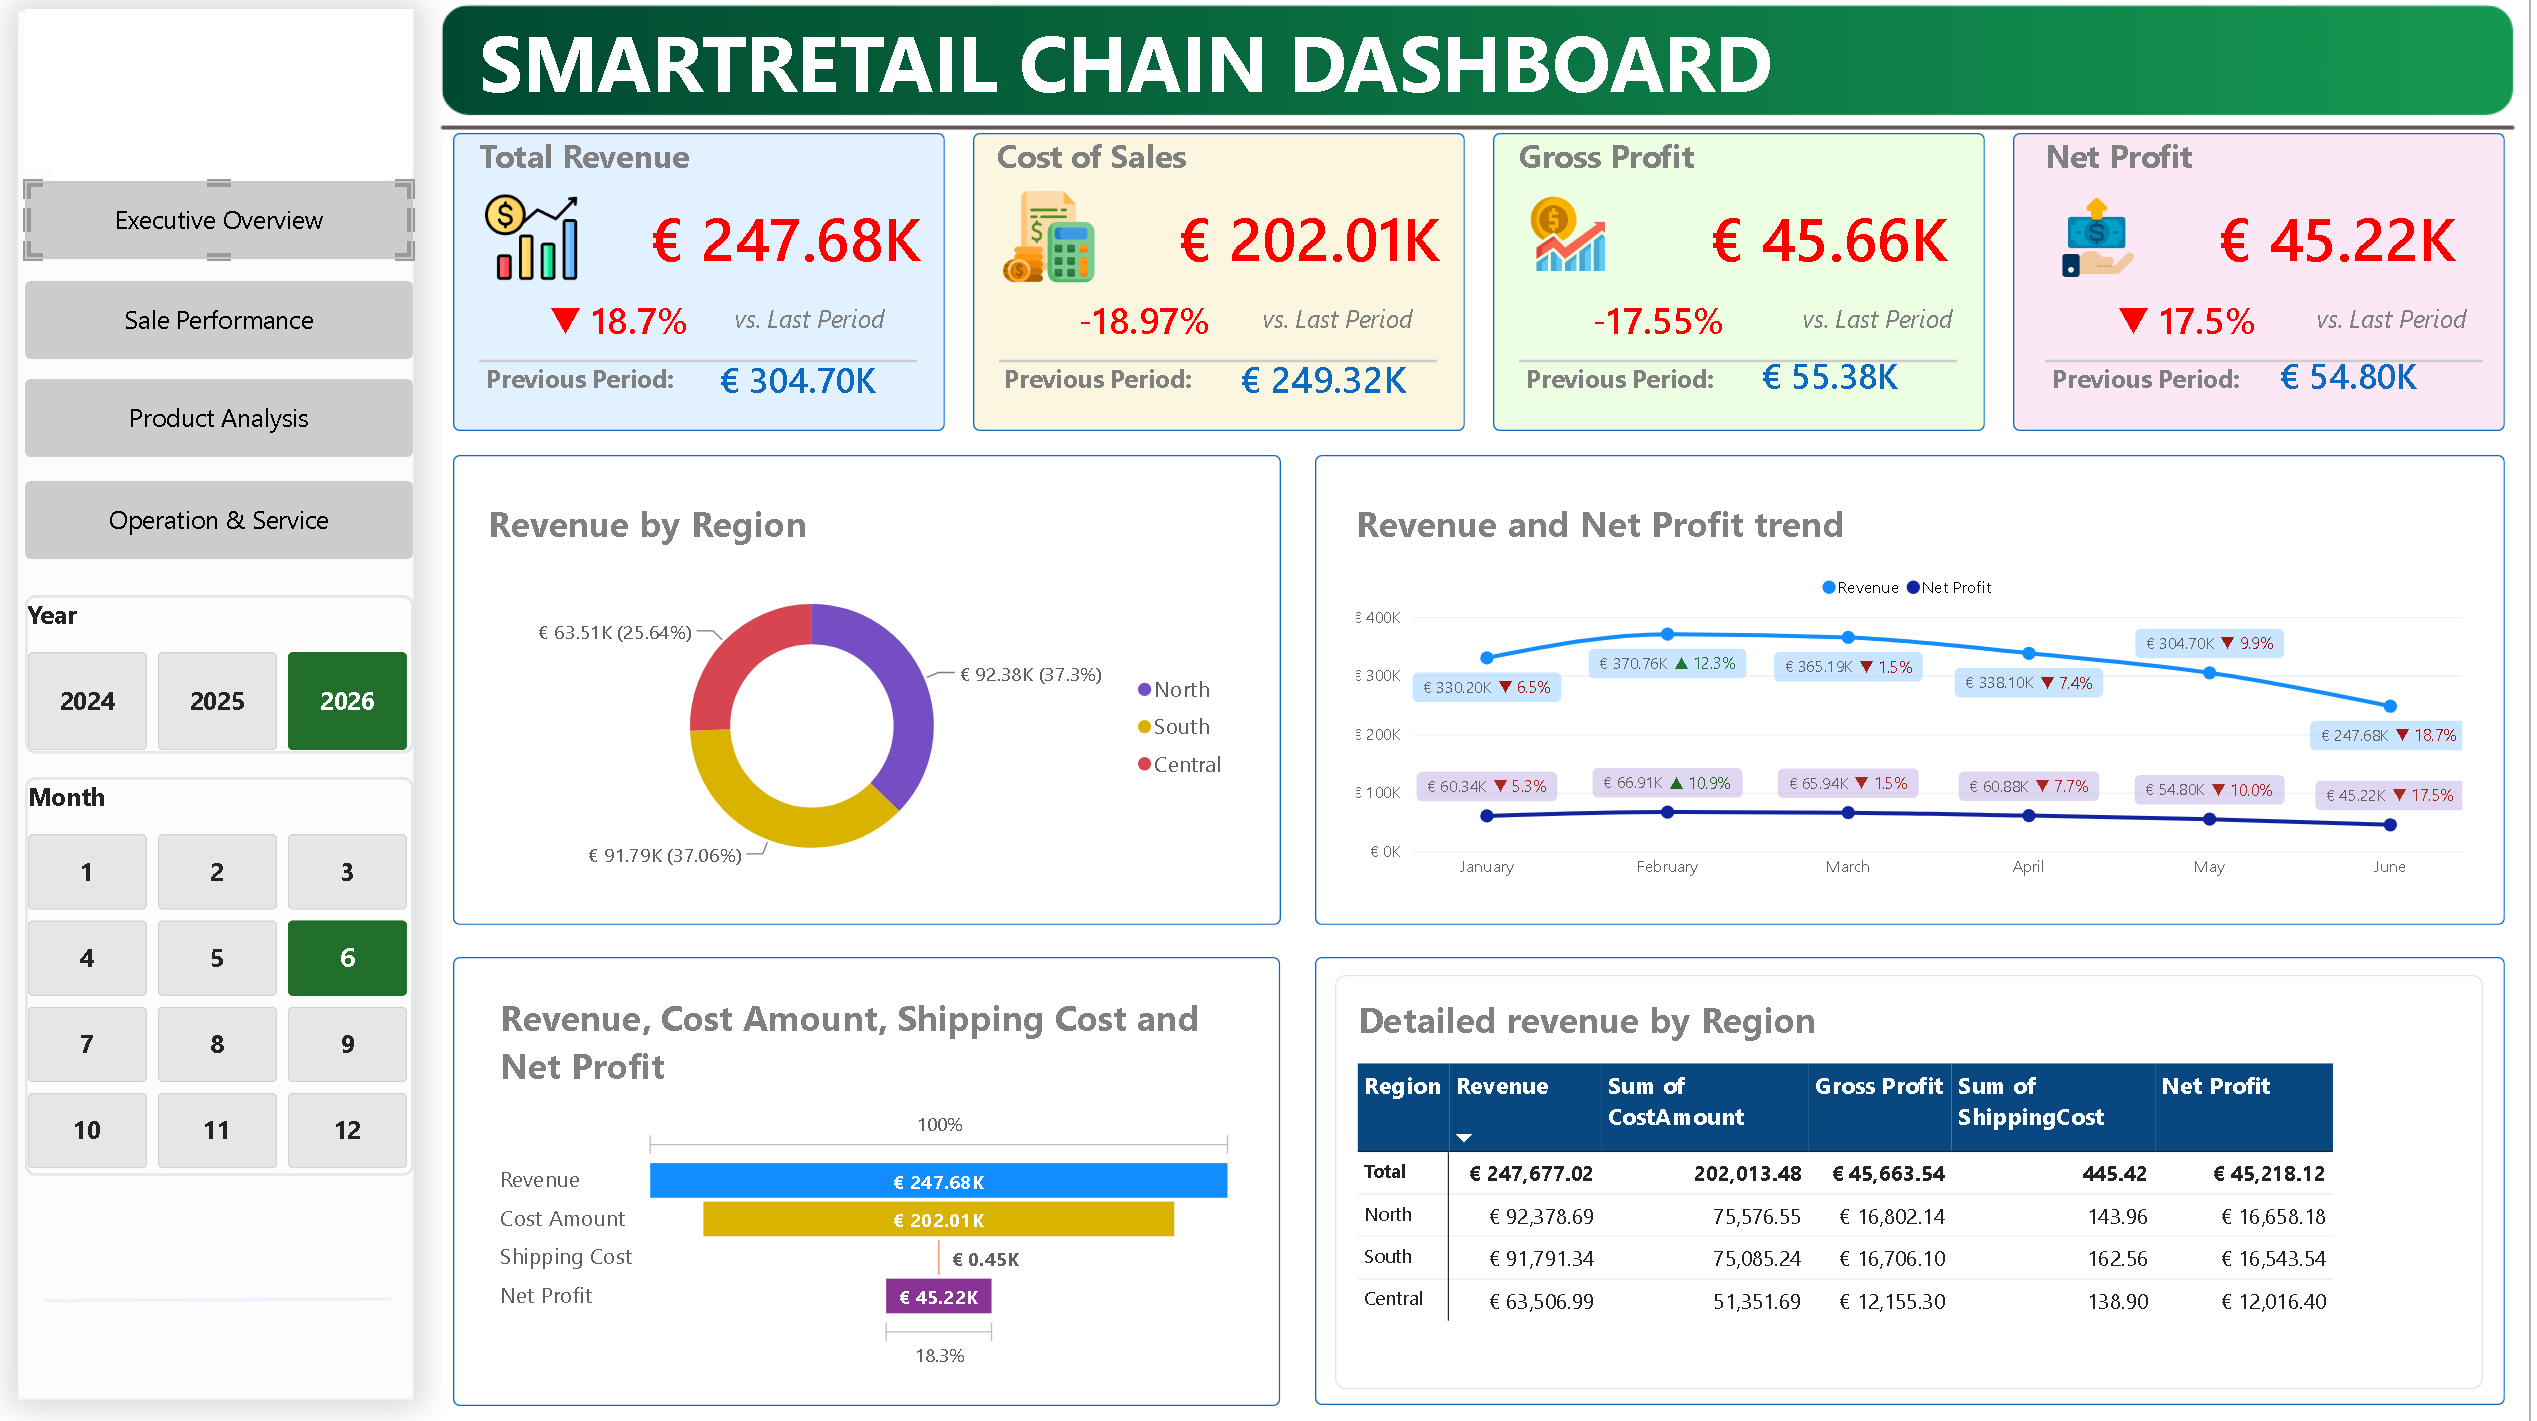

Layout of this report page (visuals, bound fields, positions):
{"tool":"powerbi","page":{"name":"Executive Overview","canvas":[1920,1080],"ordinal":0},"visuals":[{"type":"shape","box":[355.7,105.5,370.7,224.6],"z":0},{"type":"shape","box":[747.5,105.5,370.7,224.6],"z":1000},{"type":"shape","box":[1139.3,105.5,370.7,224.6],"z":2000},{"type":"shape","box":[1531.2,105.5,370.7,224.6],"z":3000},{"type":"textbox","box":[375.3,12.1,1080.6,78.4],"z":4000},{"type":"textbox","box":[375.3,105.5,226.1,43.7],"z":5000},{"type":"textbox","box":[765.6,105.5,194.4,43.7],"z":6000},{"type":"textbox","box":[1158.9,105.5,254.7,54.3],"z":7000},{"type":"textbox","box":[1555.3,105.5,265.2,54.3],"z":8000},{"type":"image","box":[375.3,149.2,78.4,69.3],"z":9000},{"type":"image","box":[765.6,149.2,78,69],"z":10000},{"type":"image","box":[1158.9,149.2,78,69],"z":11000},{"type":"image","box":[1555.3,149.2,78,69],"z":12000},{"type":"shape","box":[375.3,262.2,330,30.1],"z":13000},{"type":"shape","box":[767.1,262.2,330,30.1],"z":14000},{"type":"shape","box":[1158.9,262.2,330,30.1],"z":15000},{"type":"shape","box":[1555.3,262.2,330,30.1],"z":16000},{"type":"cardVisual","fields":{"Data":["Fact_Sales.Revenue"]},"box":[488.3,149.2,238.1,69.3],"z":17000},{"type":"textbox","box":[375.3,277.3,165.8,34.7],"z":18000},{"type":"textbox","box":[765.6,277.3,167.3,34.7],"z":19000},{"type":"textbox","box":[1158.9,277.3,179.3,34.7],"z":20000},{"type":"textbox","box":[1555.3,277.3,161.3,34.7],"z":21000},{"type":"advancedSlicerVisual","title":"Month ","fields":{"Values":["DimDate.Month Number"]},"box":[33,590.2,292.9,300.6],"z":22000},{"type":"advancedSlicerVisual","fields":{"Values":["DimDate.Year"]},"box":[33,453.1,292.9,119.6],"z":23000},{"type":"cardVisual","fields":{"Data":["Fact_Sales.Previous Period Revenue"]},"box":[541,265.2,164.3,51.2],"z":24000},{"type":"cardVisual","fields":{"Data":["Fact_Sales.% Revenue Variance vs. Pre Period"]},"box":[412.9,200.4,149.2,90.4],"z":25000},{"type":"textbox","box":[562.1,232.1,164.3,33.2],"z":26000},{"type":"cardVisual","fields":{"Data":["Fact_Sales.Cost of Sales"]},"box":[886.2,149.2,232.1,69.3],"z":27000},{"type":"cardVisual","fields":{"Data":["Fact_Sales.Previous Cost of Sales"]},"box":[932.9,265.2,164.3,49.7],"z":28000},{"type":"textbox","box":[960,232.1,119.1,33.2],"z":29000},{"type":"cardVisual","fields":{"Data":["Fact_Sales.% Cost Variance vs. Pre Period"]},"box":[810.8,200.4,149.2,90.4],"z":30000},{"type":"textbox","box":[1754.2,232.1,131.1,33.2],"z":31000},{"type":"textbox","box":[1366.9,232.1,122.1,30.1],"z":32000},{"type":"cardVisual","fields":{"Data":["Fact_Sales.Gross Profit"]},"box":[1287,149.2,223,69.3],"z":33000},{"type":"cardVisual","fields":{"Data":["Fact_Sales.Previous Period Gross Profit Value"]},"box":[1326.2,262.2,145.8,50.3],"z":34000},{"type":"cardVisual","fields":{"Data":["Fact_Sales.% Gross Profit Variance vs. Pre Period"]},"box":[1198.1,200.4,149.2,90.4],"z":35000},{"type":"cardVisual","fields":{"Data":["Fact_Sales.Net Profit"]},"box":[1669.8,149.2,232.1,69.3],"z":36000},{"type":"cardVisual","fields":{"Data":["Fact_Sales.Previous Net Profit"]},"box":[1716.5,262.2,145.8,50.3],"z":37000},{"type":"cardVisual","fields":{"Data":["Fact_Sales.% Net Profit Variance vs. Pre Period"]},"box":[1594.5,200.4,149.2,90.4],"z":38000},{"type":"shape","box":[355.7,348.1,623.9,354.2],"z":39000},{"type":"donutChart","title":"Revenue by Region","fields":{"Category":["Dim_Customers.Region"],"Y":["Fact_Sales.Revenue"]},"box":[366.2,367.7,593.8,319.5],"z":40000},{"type":"shape","box":[1005.2,348.1,896.7,354.2],"z":41000},{"type":"lineChart","title":"Revenue trend over time by sales","fields":{"Category":["DimDate.Month Name"],"Y":["Fact_Sales.Revenue","Fact_Sales.Net Profit"]},"box":[1020,367.1,865.7,320],"z":42000},{"type":"shape","box":[355,726.7,623.3,338.3],"z":43000},{"type":"funnel","fields":{"Y":["Fact_Sales.Revenue","Sum(Fact_Sales.CostAmount)","Sum(Fact_Sales.ShippingCost)","Fact_Sales.Net Profit"]},"box":[375.7,740,585,311.7],"z":44000},{"type":"shape","box":[1005.2,726.4,896.7,337.6],"z":45000},{"type":"pivotTable","title":"Detailed revenue by Region","fields":{"Rows":["Dim_Customers.Region"],"Values":["Fact_Sales.Revenue","Sum(Fact_Sales.CostAmount)","Fact_Sales.Gross Profit","Sum(Fact_Sales.ShippingCost)","Fact_Sales.Net Profit"]},"box":[1020.3,740,865.1,312],"z":46000},{"type":"actionButton","box":[33.2,141.7,292.4,58.8],"z":47000},{"type":"actionButton","box":[33.2,217,292.4,58.8],"z":48000},{"type":"actionButton","box":[33.2,290.9,292.4,58.8],"z":49000},{"type":"actionButton","box":[33.2,367.7,292.4,58.8],"z":50000},{"type":"textbox","box":[33.2,12.1,292.4,120.6],"z":51000}]}

Visuals, with their boxes in screenshot pixels (x1, y1, x2, y2), scaled from the page's 1920x1080 canvas onto the 2537x1421 screenshot:
shape: locate(470, 139, 960, 434)
shape: locate(988, 139, 1478, 434)
shape: locate(1505, 139, 1995, 434)
shape: locate(2023, 139, 2513, 434)
textbox: locate(496, 16, 1924, 119)
textbox: locate(496, 139, 795, 196)
textbox: locate(1012, 139, 1268, 196)
textbox: locate(1531, 139, 1868, 210)
textbox: locate(2055, 139, 2406, 210)
image: locate(496, 196, 599, 287)
image: locate(1012, 196, 1115, 287)
image: locate(1531, 196, 1634, 287)
image: locate(2055, 196, 2158, 287)
shape: locate(496, 345, 932, 385)
shape: locate(1014, 345, 1450, 385)
shape: locate(1531, 345, 1967, 385)
shape: locate(2055, 345, 2491, 385)
cardVisual - Fact_Sales.Revenue: locate(645, 196, 960, 287)
textbox: locate(496, 365, 715, 411)
textbox: locate(1012, 365, 1233, 411)
textbox: locate(1531, 365, 1768, 411)
textbox: locate(2055, 365, 2268, 411)
"Month " advancedSlicerVisual: locate(44, 777, 431, 1172)
advancedSlicerVisual - DimDate.Year: locate(44, 596, 431, 754)
cardVisual - Fact_Sales.Previous Period Revenue: locate(715, 349, 932, 416)
cardVisual - Fact_Sales.% Revenue Variance vs. Pre Period: locate(546, 264, 743, 383)
textbox: locate(743, 305, 960, 349)
cardVisual - Fact_Sales.Cost of Sales: locate(1171, 196, 1478, 287)
cardVisual - Fact_Sales.Previous Cost of Sales: locate(1233, 349, 1450, 414)
textbox: locate(1268, 305, 1426, 349)
cardVisual - Fact_Sales.% Cost Variance vs. Pre Period: locate(1071, 264, 1268, 383)
textbox: locate(2318, 305, 2491, 349)
textbox: locate(1806, 305, 1967, 345)
cardVisual - Fact_Sales.Gross Profit: locate(1701, 196, 1995, 287)
cardVisual - Fact_Sales.Previous Period Gross Profit Value: locate(1752, 345, 1945, 411)
cardVisual - Fact_Sales.% Gross Profit Variance vs. Pre Period: locate(1583, 264, 1780, 383)
cardVisual - Fact_Sales.Net Profit: locate(2206, 196, 2513, 287)
cardVisual - Fact_Sales.Previous Net Profit: locate(2268, 345, 2461, 411)
cardVisual - Fact_Sales.% Net Profit Variance vs. Pre Period: locate(2107, 264, 2304, 383)
shape: locate(470, 458, 1294, 924)
"Revenue by Region" donutChart: locate(484, 484, 1268, 904)
shape: locate(1328, 458, 2513, 924)
"Revenue trend over time by sales" lineChart: locate(1348, 483, 2492, 904)
shape: locate(469, 956, 1293, 1401)
funnel - Fact_Sales.Revenue x Sum(Fact_Sales.CostAmount): locate(496, 974, 1269, 1384)
shape: locate(1328, 956, 2513, 1400)
"Detailed revenue by Region" pivotTable: locate(1348, 974, 2491, 1384)
actionButton: locate(44, 186, 430, 264)
actionButton: locate(44, 286, 430, 363)
actionButton: locate(44, 383, 430, 460)
actionButton: locate(44, 484, 430, 561)
textbox: locate(44, 16, 430, 175)
